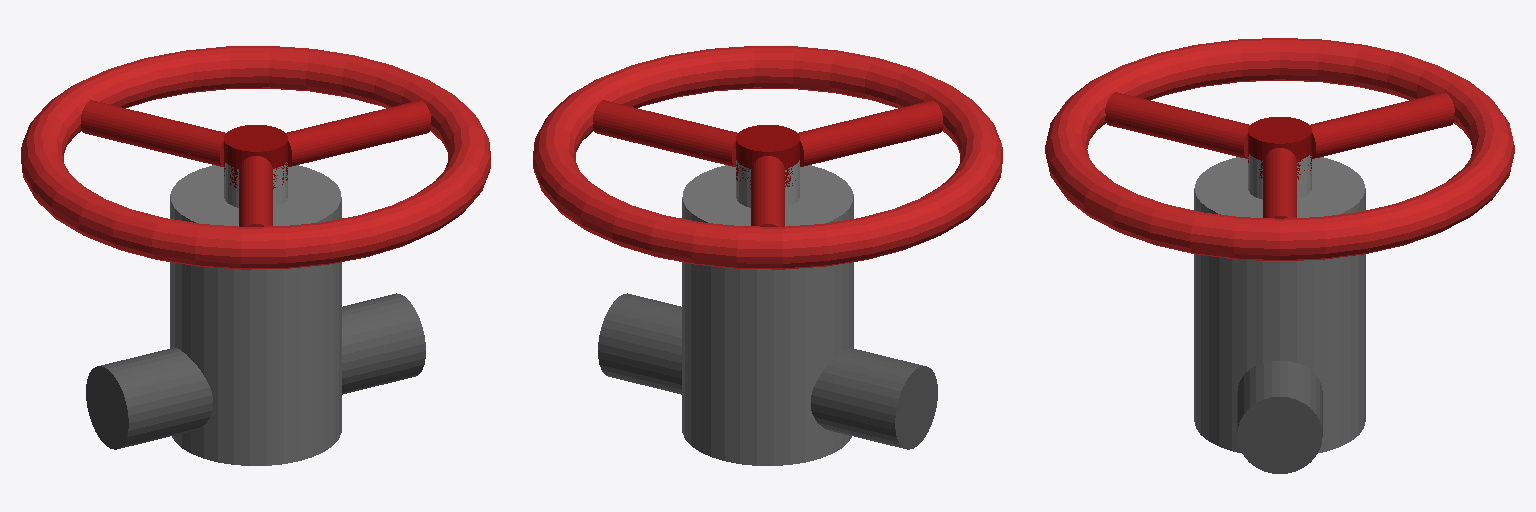
URDF robot description (globe_valve):
<?xml version="1.0" ?>
<robot name="globe_valve">
	<!-- Base link (reference frame) -->
	<link name="base"/>
	
	<!-- Valve body (fixed part) - 阀门本体 -->
	<link name="valve_body">
		<!-- Main valve body -->
		<visual name="body_main">
			<origin xyz="0 0 0.06"/>
			<geometry>
				<cylinder radius="0.04" length="0.12"/>
			</geometry>
			<material name="valve_body_material">
				<color rgba="0.5 0.5 0.5 1.0"/>
			</material>
		</visual>
		<collision>
			<origin xyz="0 0 0.06"/>
			<geometry>
				<cylinder radius="0.04" length="0.12"/>
			</geometry>
		</collision>
		
		<!-- Inlet pipe (left) -->
		<visual name="inlet_pipe">
			<origin xyz="-0.05 0 0.03" rpy="0 1.5708 0"/>
			<geometry>
				<cylinder radius="0.02" length="0.06"/>
			</geometry>
			<material name="pipe_material">
				<color rgba="0.4 0.4 0.4 1.0"/>
			</material>
		</visual>
		<collision>
			<origin xyz="-0.05 0 0.03" rpy="0 1.5708 0"/>
			<geometry>
				<cylinder radius="0.02" length="0.06"/>
			</geometry>
		</collision>
		
		<!-- Outlet pipe (right) -->
		<visual name="outlet_pipe">
			<origin xyz="0.05 0 0.03" rpy="0 1.5708 0"/>
			<geometry>
				<cylinder radius="0.02" length="0.06"/>
			</geometry>
			<material name="pipe_material">
				<color rgba="0.4 0.4 0.4 1.0"/>
			</material>
		</visual>
		<collision>
			<origin xyz="0.05 0 0.03" rpy="0 1.5708 0"/>
			<geometry>
				<cylinder radius="0.02" length="0.06"/>
			</geometry>
		</collision>
		
		<!-- Valve stem housing -->
		<visual name="stem_housing">
			<origin xyz="0 0 0.13"/>
			<geometry>
				<cylinder radius="0.015" length="0.02"/>
			</geometry>
			<material name="stem_material">
				<color rgba="0.6 0.6 0.6 1.0"/>
			</material>
		</visual>
		<collision>
			<origin xyz="0 0 0.13"/>
			<geometry>
				<cylinder radius="0.015" length="0.02"/>
			</geometry>
		</collision>
	</link>
	
	<!-- Handwheel (rotatable part) - 可旋转的手轮 -->
	<link name="handwheel">
		<!-- Stem (valve spindle) - 阀杆 -->
		<visual name="stem">
			<origin xyz="0 0 -0.03"/>
			<geometry>
				<cylinder radius="0.008" length="0.06"/>
			</geometry>
			<material name="stem_material">
				<color rgba="0.7 0.7 0.7 1.0"/>
			</material>
		</visual>
		<collision>
			<origin xyz="0 0 -0.03"/>
			<geometry>
				<cylinder radius="0.008" length="0.06"/>
			</geometry>
		</collision>
		
		<!-- Outer rim (完整闭合圆环) - 使用mesh文件 -->
		<visual name="handwheel_ring">
			<origin xyz="0 0 0" rpy="0 0 0"/>
			<geometry>
				<mesh filename="meshes/handwheel_ring.obj"/>
			</geometry>
			<material name="rim_material">
				<color rgba="0.8 0.2 0.2 1.0"/>
			</material>
		</visual>
		<collision>
			<origin xyz="0 0 0" rpy="0 0 0"/>
			<geometry>
				<mesh filename="meshes/handwheel_part_0.glb"/>
			</geometry>
		</collision>
		<collision>
			<origin xyz="0 0 0" rpy="0 0 0"/>
			<geometry>
				<mesh filename="meshes/handwheel_part_1.glb"/>
			</geometry>
		</collision>
		<collision>
			<origin xyz="0 0 0" rpy="0 0 0"/>
			<geometry>
				<mesh filename="meshes/handwheel_part_2.glb"/>
			</geometry>
		</collision>
		<collision>
			<origin xyz="0 0 0" rpy="0 0 0"/>
			<geometry>
				<mesh filename="meshes/handwheel_part_3.glb"/>
			</geometry>
		</collision>
		<collision>
			<origin xyz="0 0 0" rpy="0 0 0"/>
			<geometry>
				<mesh filename="meshes/handwheel_part_4.glb"/>
			</geometry>
		</collision>
		<collision>
			<origin xyz="0 0 0" rpy="0 0 0"/>
			<geometry>
				<mesh filename="meshes/handwheel_part_5.glb"/>
			</geometry>
		</collision>
		<collision>
			<origin xyz="0 0 0" rpy="0 0 0"/>
			<geometry>
				<mesh filename="meshes/handwheel_part_6.glb"/>
			</geometry>
		</collision>
		<collision>
			<origin xyz="0 0 0" rpy="0 0 0"/>
			<geometry>
				<mesh filename="meshes/handwheel_part_7.glb"/>
			</geometry>
		</collision>
		<collision>
			<origin xyz="0 0 0" rpy="0 0 0"/>
			<geometry>
				<mesh filename="meshes/handwheel_part_8.glb"/>
			</geometry>
		</collision>
		<collision>
			<origin xyz="0 0 0" rpy="0 0 0"/>
			<geometry>
				<mesh filename="meshes/handwheel_part_9.glb"/>
			</geometry>
		</collision>
		<collision>
			<origin xyz="0 0 0" rpy="0 0 0"/>
			<geometry>
				<mesh filename="meshes/handwheel_part_10.glb"/>
			</geometry>
		</collision>
		<collision>
			<origin xyz="0 0 0" rpy="0 0 0"/>
			<geometry>
				<mesh filename="meshes/handwheel_part_11.glb"/>
			</geometry>
		</collision>
		<collision>
			<origin xyz="0 0 0" rpy="0 0 0"/>
			<geometry>
				<mesh filename="meshes/handwheel_part_12.glb"/>
			</geometry>
		</collision>
		<collision>
			<origin xyz="0 0 0" rpy="0 0 0"/>
			<geometry>
				<mesh filename="meshes/handwheel_part_13.glb"/>
			</geometry>
		</collision>
		<collision>
			<origin xyz="0 0 0" rpy="0 0 0"/>
			<geometry>
				<mesh filename="meshes/handwheel_part_14.glb"/>
			</geometry>
		</collision>
		
		<!-- Three spokes evenly distributed at 120 deg intervals -->
		<!-- Extend from hub edge (r=0.015) to ring inner edge (r=0.09) -->
		<!-- Spoke length = 0.09 - 0.015 = 0.075m, center position = (0.015+0.09)/2 = 0.0525m -->
		<!-- Spoke 1: 0 deg direction (right, +X) -->
		<visual name="spoke_1">
			<origin xyz="0.0525 0 0" rpy="0 1.5708 0"/>
			<geometry>
				<cylinder radius="0.008" length="0.075"/>
			</geometry>
			<material name="spoke_material">
				<color rgba="0.7 0.15 0.15 1.0"/>
			</material>
		</visual>
		<collision>
			<origin xyz="0.0525 0 0" rpy="0 1.5708 0"/>
			<geometry>
				<cylinder radius="0.008" length="0.075"/>
			</geometry>
		</collision>
		
		<!-- Spoke 2: 120 deg direction (upper-left) -->
		<visual name="spoke_2">
			<origin xyz="-0.02625 0.04546 0" rpy="0 1.5708 2.0944"/>
			<geometry>
				<cylinder radius="0.008" length="0.075"/>
			</geometry>
			<material name="spoke_material">
				<color rgba="0.7 0.15 0.15 1.0"/>
			</material>
		</visual>
		<collision>
			<origin xyz="-0.02625 0.04546 0" rpy="0 1.5708 2.0944"/>
			<geometry>
				<cylinder radius="0.008" length="0.075"/>
			</geometry>
		</collision>
		
		<!-- Spoke 3: 240 deg direction (lower-left) -->
		<visual name="spoke_3">
			<origin xyz="-0.02625 -0.04546 0" rpy="0 1.5708 4.1888"/>
			<geometry>
				<cylinder radius="0.008" length="0.075"/>
			</geometry>
			<material name="spoke_material">
				<color rgba="0.7 0.15 0.15 1.0"/>
			</material>
		</visual>
		<collision>
			<origin xyz="-0.02625 -0.04546 0" rpy="0 1.5708 4.1888"/>
			<geometry>
				<cylinder radius="0.008" length="0.075"/>
			</geometry>
		</collision>
		
		<!-- Center hub (中心轮毂，与阀杆刚性连接) -->
		<visual name="hub">
			<origin xyz="0 0 0"/>
			<geometry>
				<cylinder radius="0.015" length="0.02"/>
			</geometry>
			<material name="hub_material">
				<color rgba="0.6 0.1 0.1 1.0"/>
			</material>
		</visual>
		<collision>
			<origin xyz="0 0 0"/>
			<geometry>
				<cylinder radius="0.015" length="0.02"/>
			</geometry>
		</collision>
	</link>
	
	<!-- Joint: Handwheel rotation (continuous) -->
	<joint name="handwheel_joint" type="continuous">
		<origin xyz="0 0 0.14" rpy="0 0 0"/>
		<axis xyz="0 0 1"/>
		<parent link="valve_body"/>
		<child link="handwheel"/>
		<!-- Continuous joint - no limits, can rotate indefinitely -->
		<dynamics damping="0.01" friction="0.01"/>
	</joint>
	
	<!-- Joint: Valve body fixed to base -->
	<joint name="valve_base_joint" type="fixed">
		<origin xyz="0 0 0" rpy="0 0 0"/>
		<parent link="base"/>
		<child link="valve_body"/>
	</joint>
</robot>

--- Facts derived from the render (not from the file) ---
3 views of the same robot in one strip: view 1: azimuth 30°, elevation 25°; view 2: azimuth 150°, elevation 25°; view 3: azimuth 270°, elevation 25° (orthographic).
Robot: globe_valve — 3 links, 2 joints (1 continuous, 1 fixed); root link base; default pose: every joint at zero.
Visible links, largest first — view 1: handwheel, valve_body; view 2: handwheel, valve_body; view 3: handwheel, valve_body.
Link boxes in pixels (box(x1,y1,x2,y2)): handwheel: box(21, 46, 490, 269); valve_body: box(86, 162, 425, 465); handwheel: box(533, 46, 1002, 269); valve_body: box(598, 160, 937, 465); handwheel: box(1045, 38, 1514, 260); valve_body: box(1194, 154, 1365, 473).
Size in the robot's own frame: 0.22 by 0.22 by 0.15 metres.
Meshes: 1 distinct files referenced, 1 mesh visuals loaded (1 OBJ).
